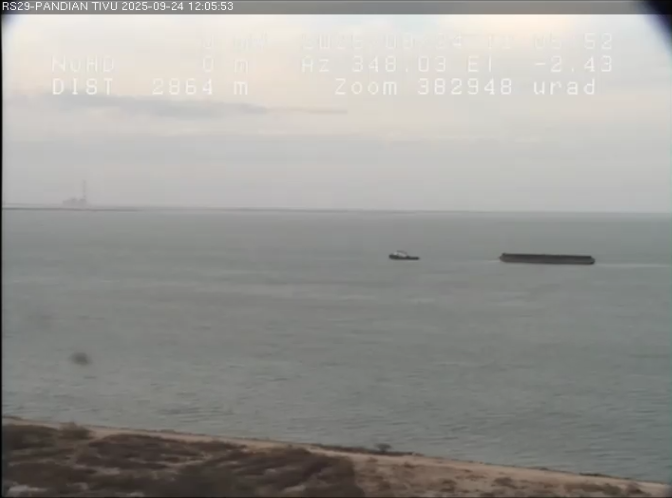BARGE: (473, 245, 610, 281)
OFFSHORE_SUPPLY_VESSEL: (376, 243, 424, 266)
TOWING: (331, 224, 650, 308)
